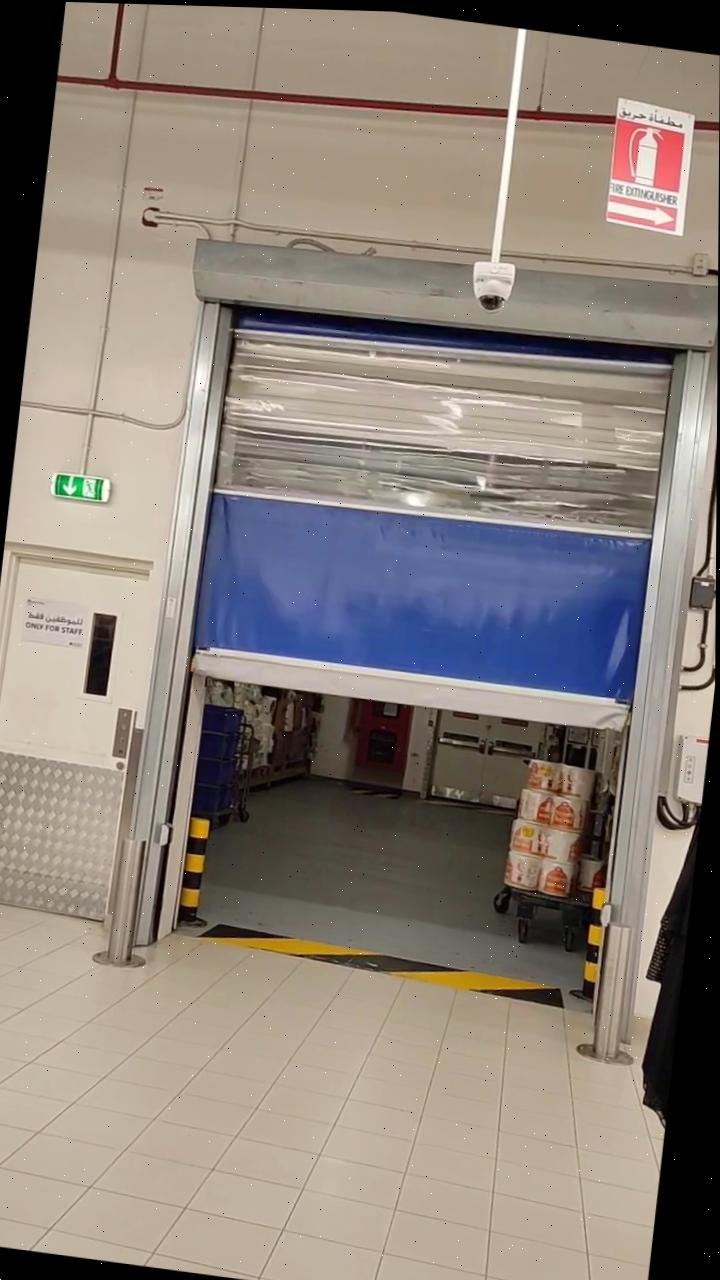Strip: (209, 909, 561, 1006)
